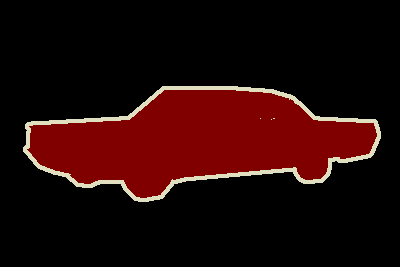car: (25, 87, 378, 201)
